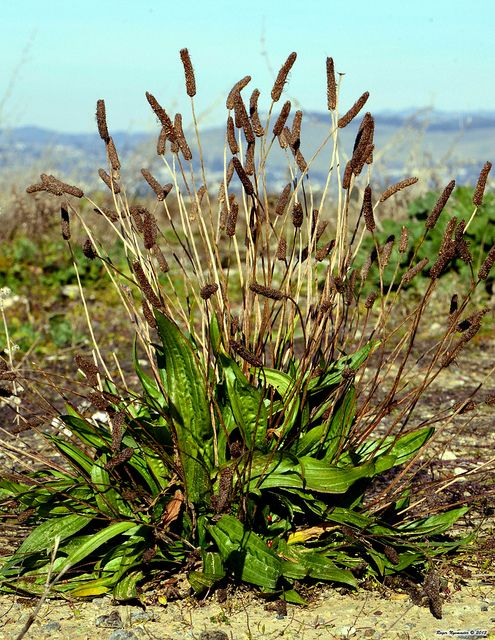buckhorn plantain: (20, 48, 421, 587)
